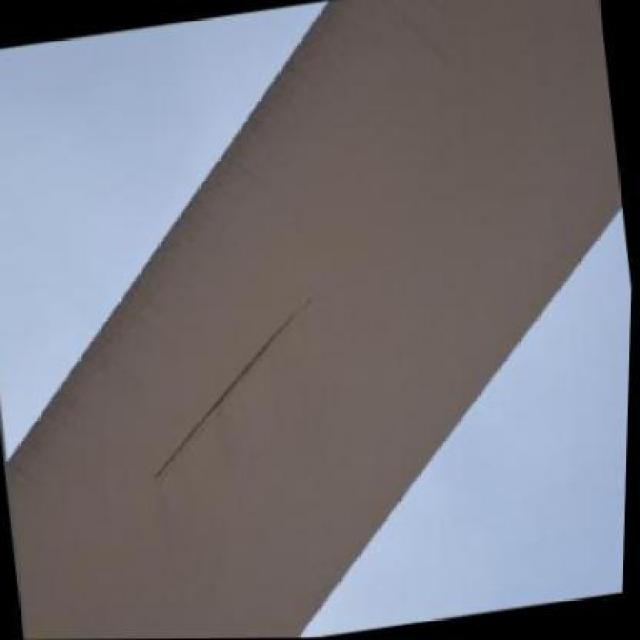Crack: (131, 299, 337, 481)
